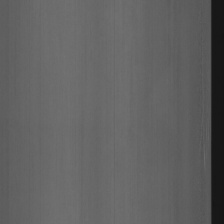silk_spot: (193, 110, 210, 170)
